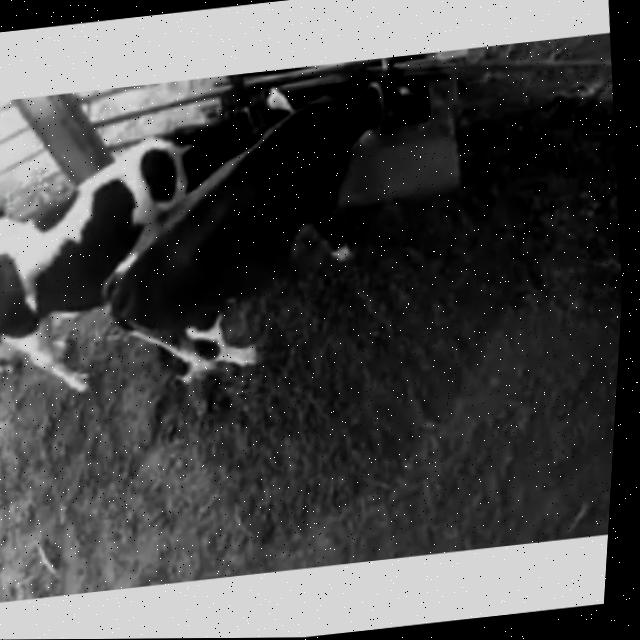drink: (279, 57, 440, 186), (148, 74, 306, 183)
